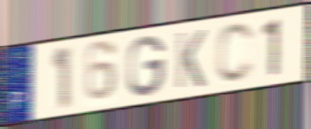1: (261, 16, 284, 79), (51, 45, 72, 112)
6: (84, 38, 119, 109)
C: (214, 20, 257, 85)
G: (126, 34, 167, 99)
K: (174, 28, 207, 91)
